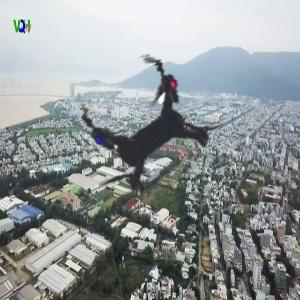drone: (20, 11, 273, 264)
